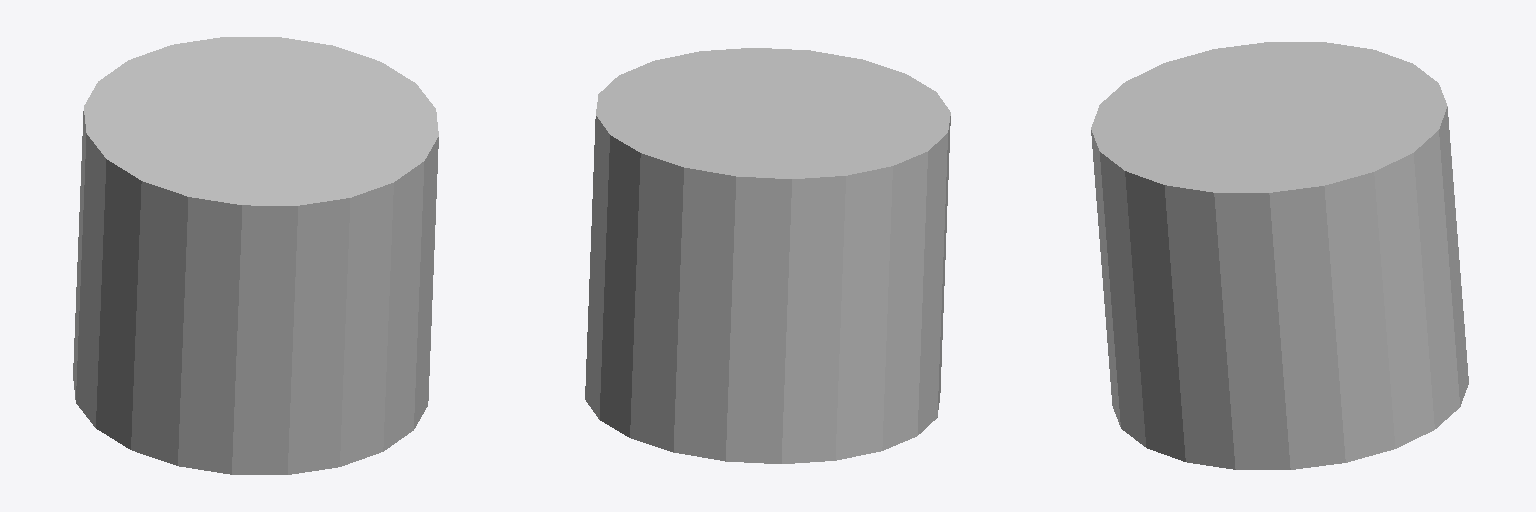
File: Bumper_3.obj
3 renders of one model, left to right at view 1: azimuth 30°, elevation 25°; view 2: azimuth 150°, elevation 25°; view 3: azimuth 270°, elevation 25°, orthographic.
Parts seen in each view (by area): view 1: Bumper_3 PinballInternals PinballMachine; view 2: Bumper_3 PinballInternals PinballMachine; view 3: Bumper_3 PinballInternals PinballMachine.
Part boxes in pixels (left/top/right/bottom): Bumper_3 PinballInternals PinballMachine: left=73, top=37, right=438, bottom=474; Bumper_3 PinballInternals PinballMachine: left=585, top=48, right=950, bottom=463; Bumper_3 PinballInternals PinballMachine: left=1091, top=42, right=1468, bottom=469.
Bounding box in the file's own units: 22.16 × 20.5 × 23.43.